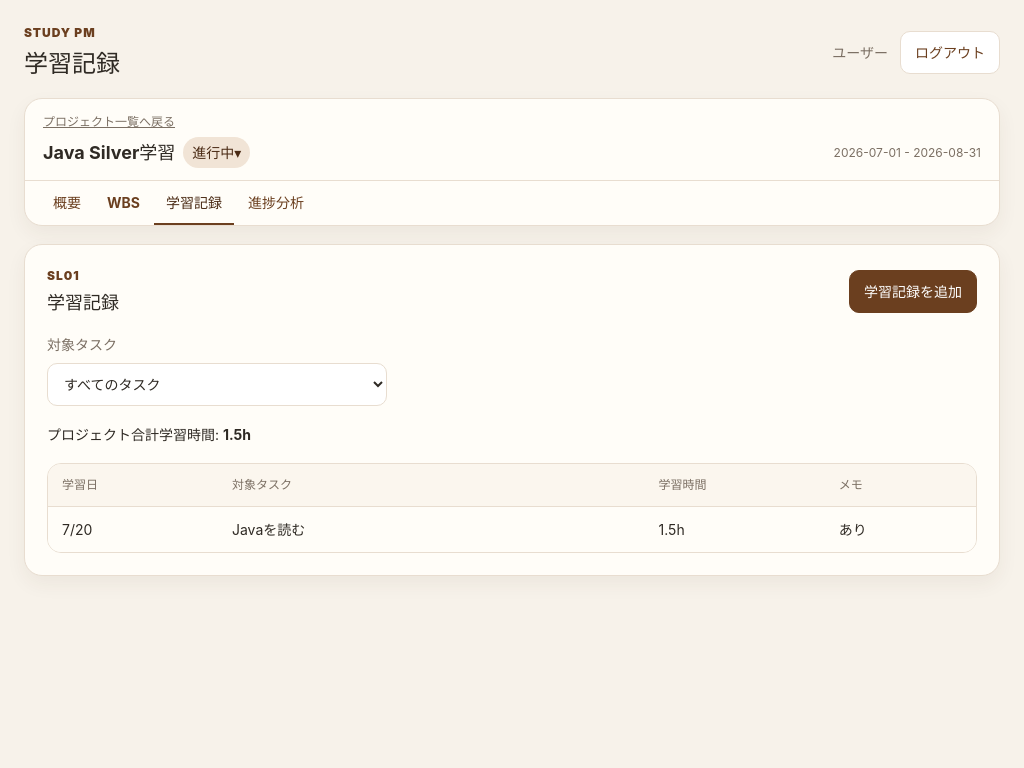
Test: StudyLogsPage › 削除確認後に学習記録を削除し、一覧を再取得する
The width and height of the screenshot is (1024, 768).
Click the button with aria-label "2026-07-20 Javaを読むの学習記録を編集". click: (77, 529)
box: [48,507,976,552]
(page scrolled)
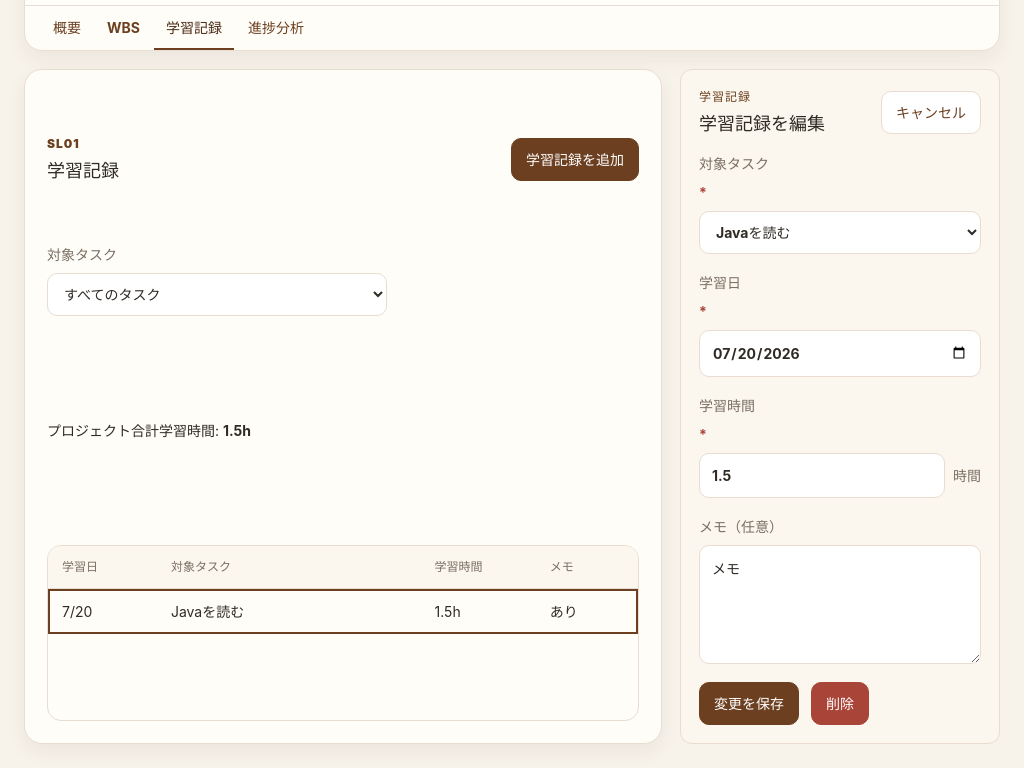
Click the button "削除". click: (840, 703)
box: [811,682,869,725]
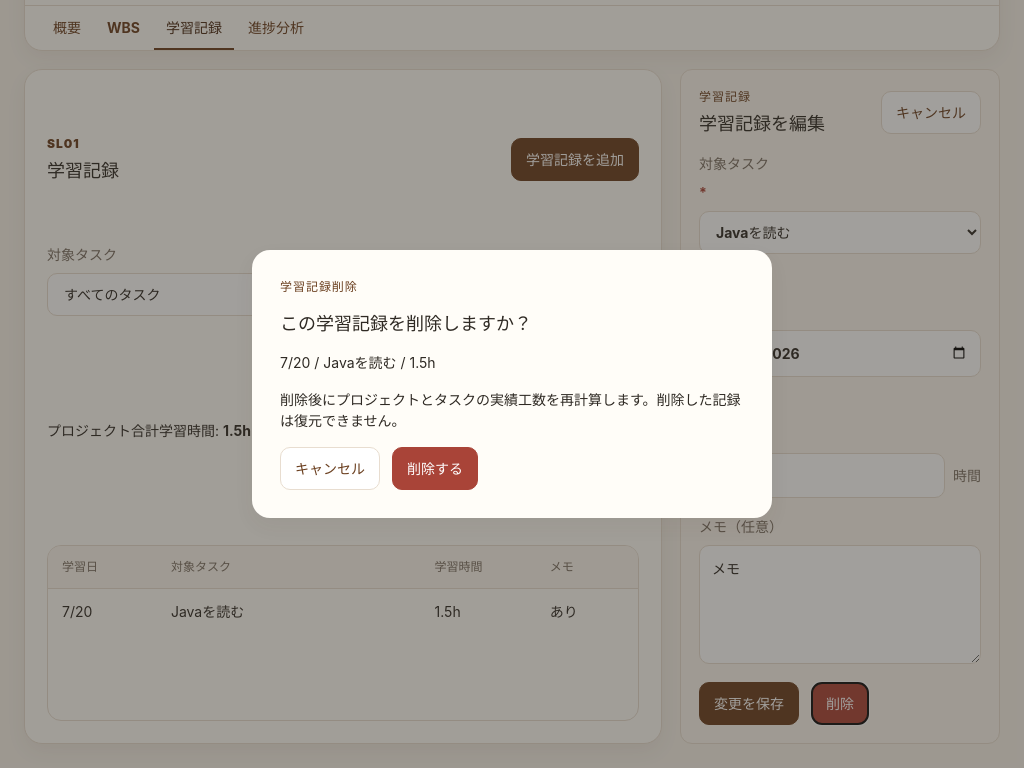
expect the dialog shows "復元できません": met, box [280,391,741,429]
Click the button "削除する". click: (435, 469)
box: [392,447,478,490]
(page scrolled)
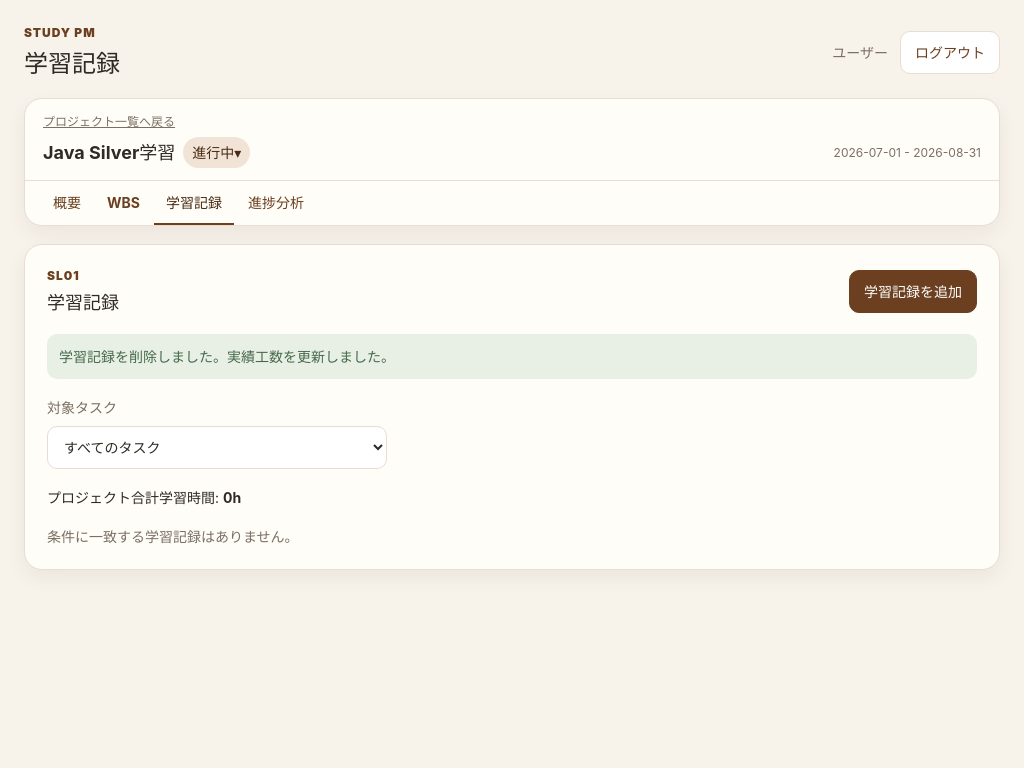
expect the text "学習記録を削除しました。実績工数を更新しました。" is shown: met, box [47,334,977,379]
expect the text "条件に一致する学習記録はありません。" is shown: met, box [47,528,299,545]
